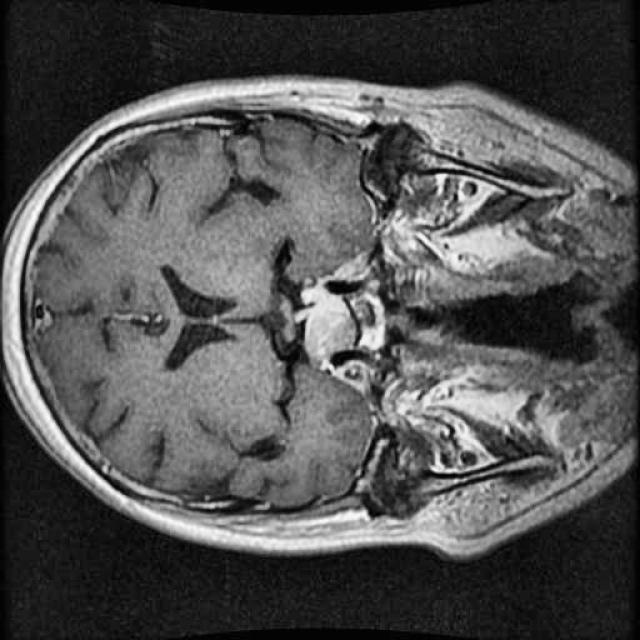Tumor: (295, 275, 368, 380)
